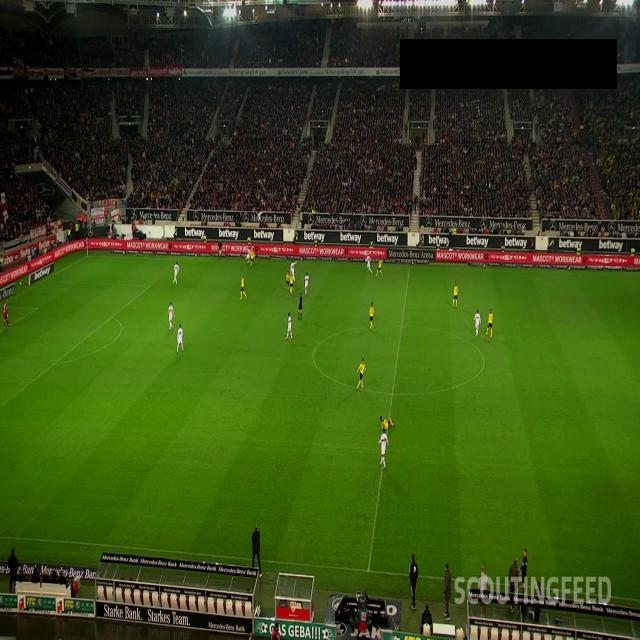goalkeeper: (3, 300, 9, 328)
player: (378, 428, 388, 468), (356, 358, 366, 390), (486, 308, 494, 338), (176, 324, 184, 354), (284, 312, 292, 341), (474, 308, 481, 338), (240, 275, 248, 300), (290, 258, 298, 282), (172, 260, 180, 284), (380, 416, 391, 432), (168, 301, 174, 330), (452, 281, 458, 309), (368, 302, 374, 330), (376, 257, 384, 277), (304, 272, 310, 296), (384, 416, 394, 430), (289, 270, 294, 296), (366, 254, 372, 274), (250, 248, 255, 268), (245, 248, 251, 264), (286, 270, 290, 288)
referee: (518, 548, 528, 592), (298, 292, 303, 320), (218, 238, 222, 260)
